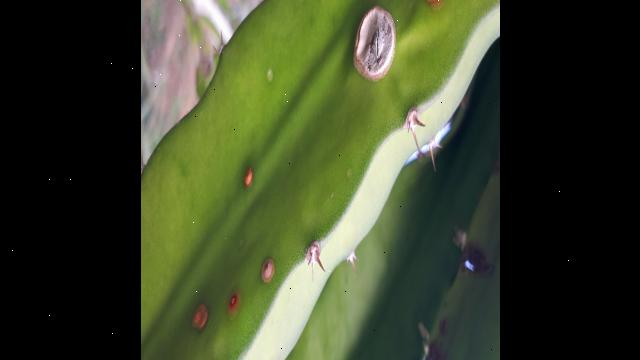stemcanker: (190, 302, 213, 333), (259, 254, 280, 286), (222, 286, 245, 313), (240, 162, 257, 192)
